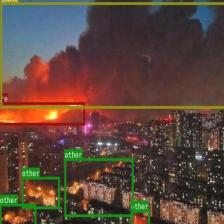fire: (0, 101, 84, 124)
smoke: (0, 2, 224, 108)
